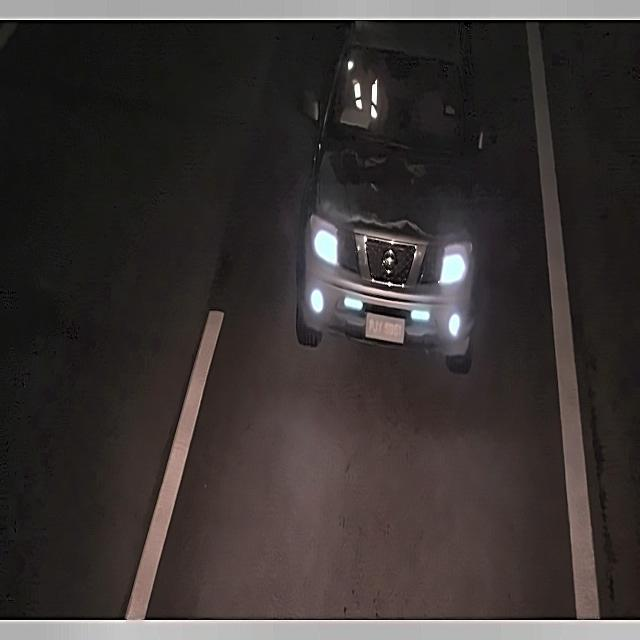car: (362, 307, 409, 350)
